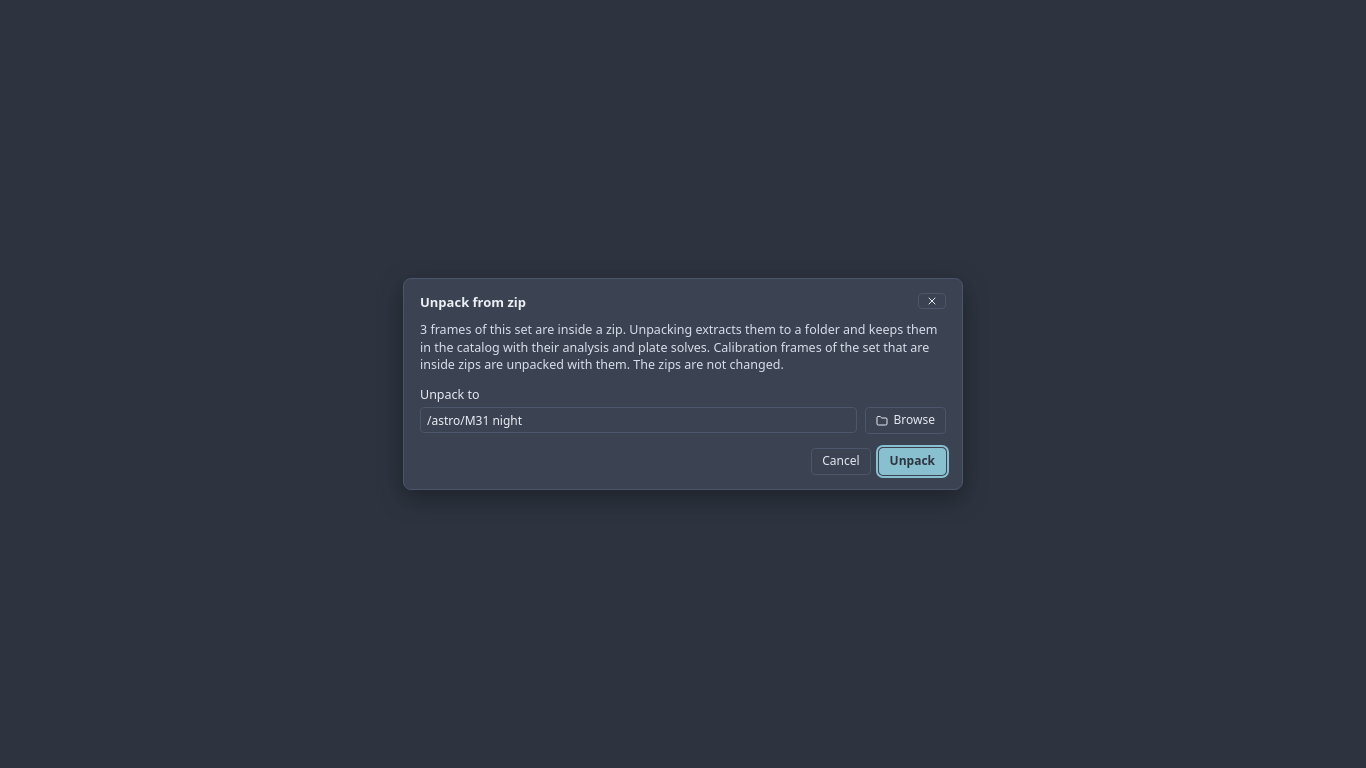
Scenario: UnpackZipDialog › shows a refused request in the dialog and notifies
The image size is (1366, 768).
What coordinates should you click on to do the following:
click the button "Unpack"
I would click on:
 (912, 462)
Its box is [879, 448, 946, 475].
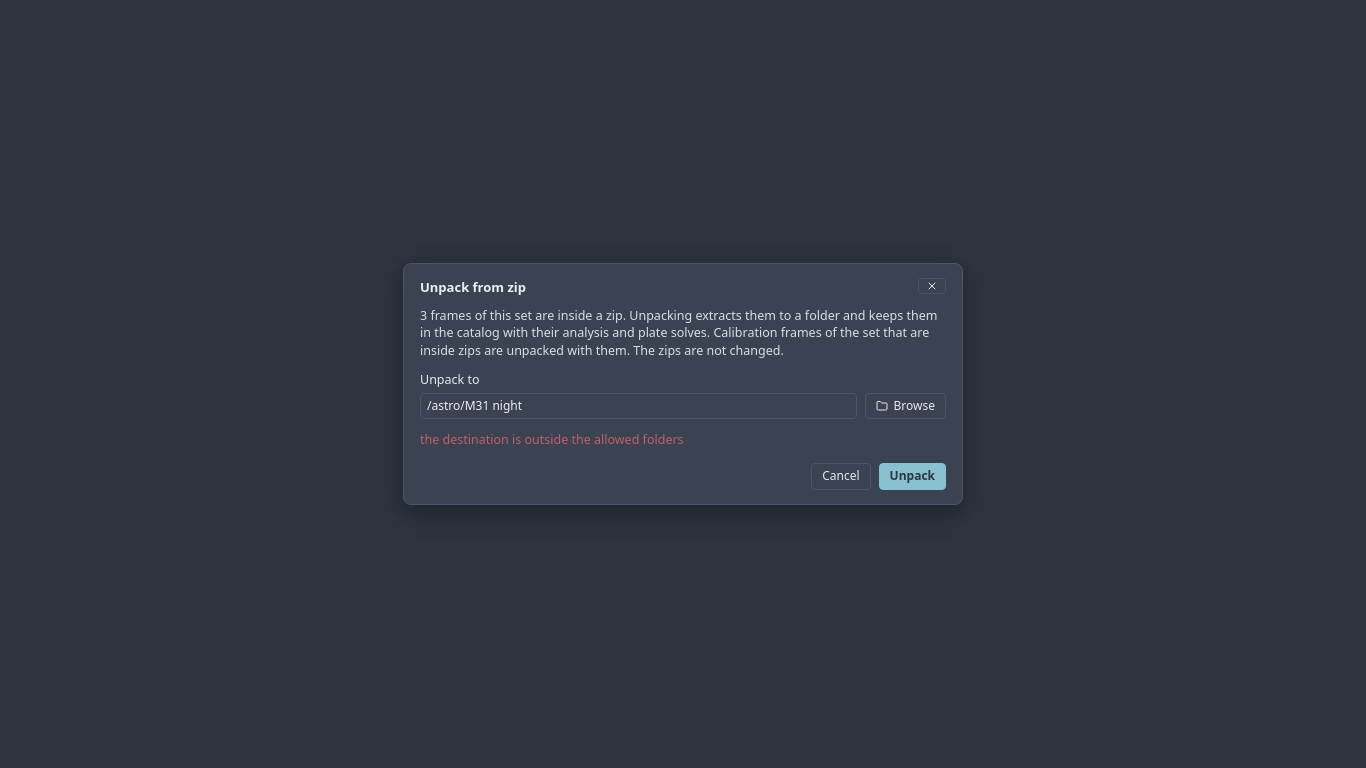
Check: the message shows "outside the allowed folders", box [420, 431, 684, 448]
